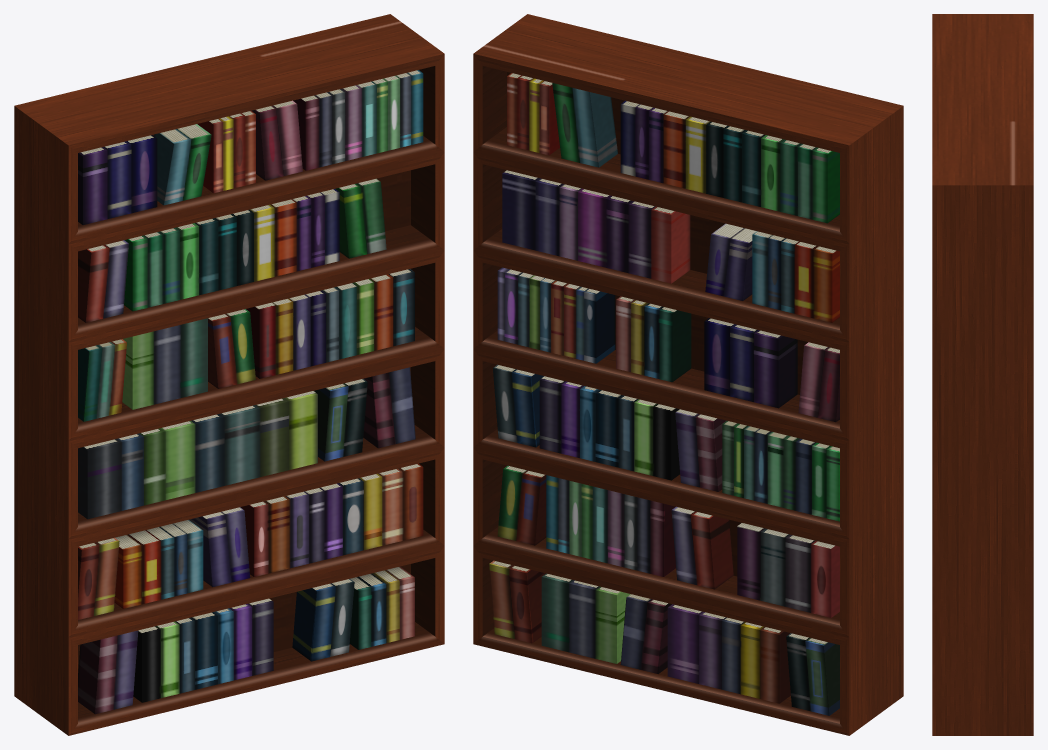
Rendered from BookcaseDoor.FBX.
3 views of the same model, side by side, from view 1: azimuth 30°, elevation 25°; view 2: azimuth 150°, elevation 25°; view 3: azimuth 270°, elevation 25° (orthographic). The views are drawn at different scales.
Visible parts, largest first — view 1: BookcaseDoor; view 2: BookcaseDoor; view 3: BookcaseDoor.
Boxes of the visible parts, left/top/right/bottom form: BookcaseDoor: left=14, top=14, right=444, bottom=735; BookcaseDoor: left=473, top=14, right=903, bottom=735; BookcaseDoor: left=932, top=14, right=1033, bottom=735.
Size of the model in its own units: 4 by 6 by 1.
